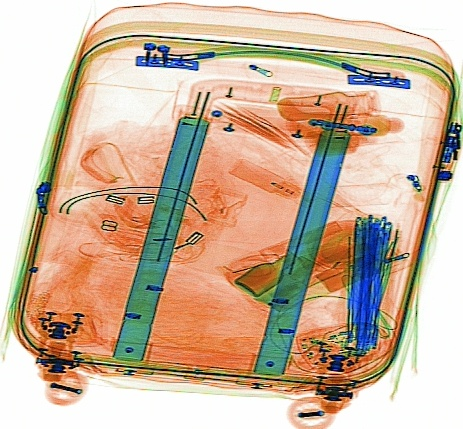knife: (233, 252, 293, 298)
